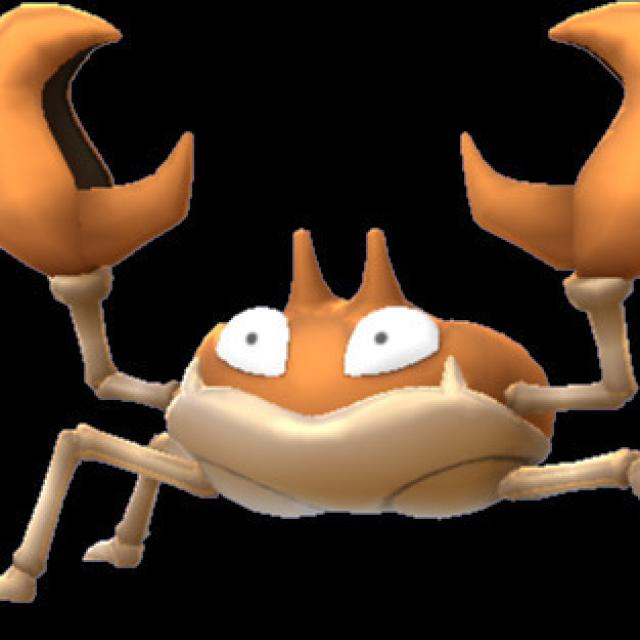Krabby: (30, 138, 634, 534)
